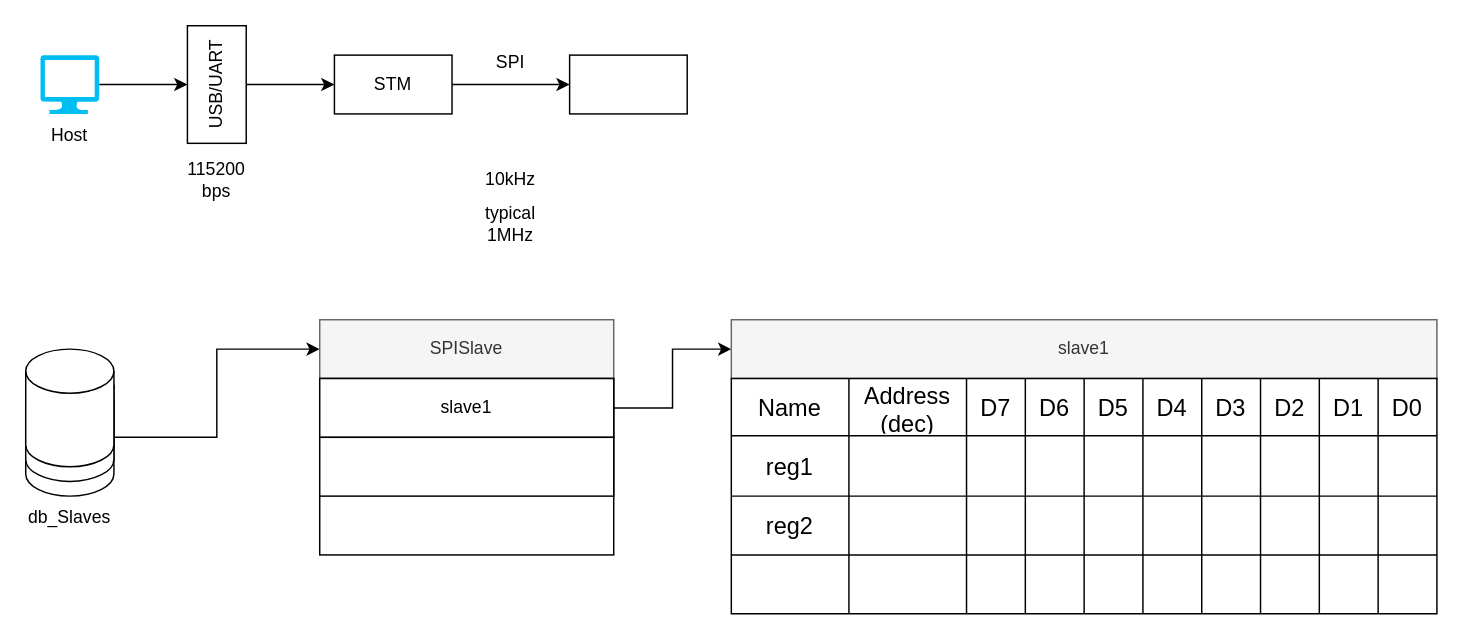
The diagram is 1463 pixels wide and 639 high, and some of its shapes have lost their labels. The box of each missing label's shape, as (x1, y1, x2, y2) in pixels:
RFIC: (568, 54, 687, 114)
slave2: (318, 436, 614, 496)
